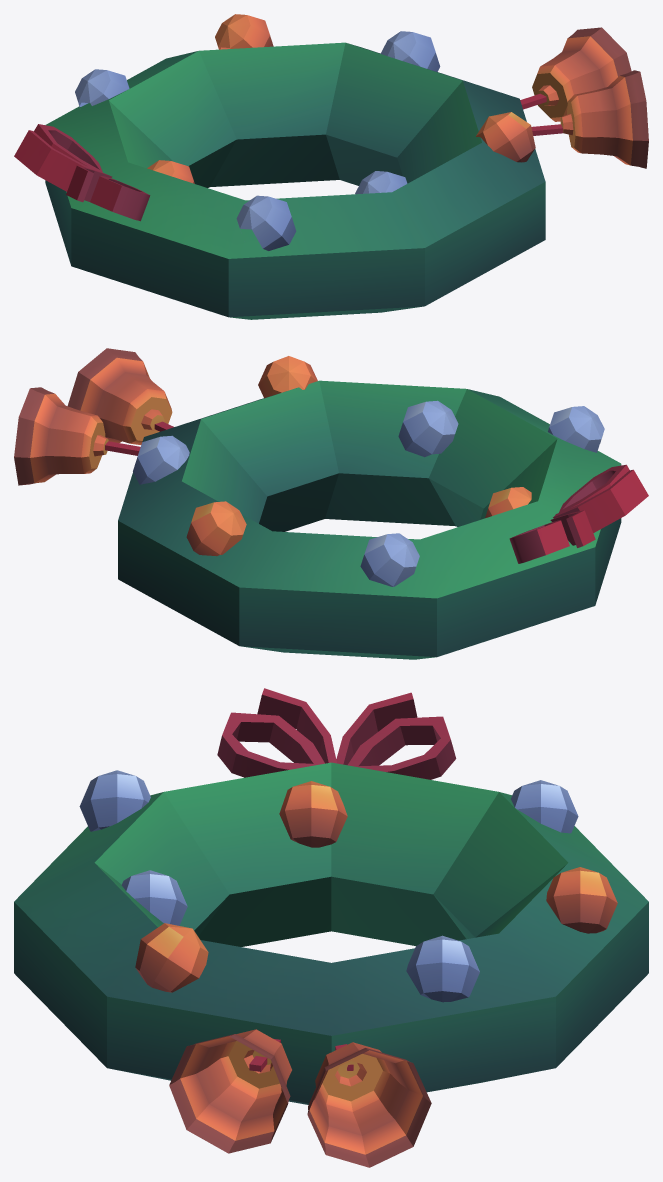
Rendered from ChristmasWreath.fbx.
3 renders of one model, top to bottom at view 1: azimuth 30°, elevation 25°; view 2: azimuth 150°, elevation 25°; view 3: azimuth 270°, elevation 25°, orthographic. The views are drawn at different scales.
Visible parts, largest first — view 1: Torus; view 2: Torus; view 3: Torus.
Boxes of the visible parts, bbox=[...] form: Torus: bbox=[14, 14, 648, 319]; Torus: bbox=[14, 348, 648, 659]; Torus: bbox=[14, 688, 648, 1167].
Size of the model in its own units: 1.59 by 0.4088 by 1.23.
